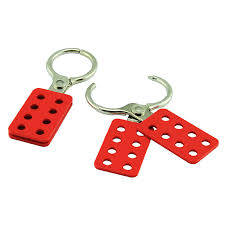hasp: (86, 75, 220, 178), (6, 48, 98, 147)
